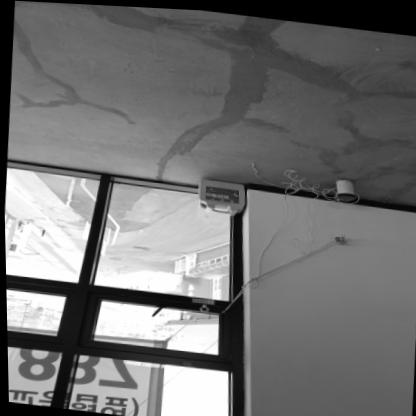DDL: (196, 176, 244, 213)
